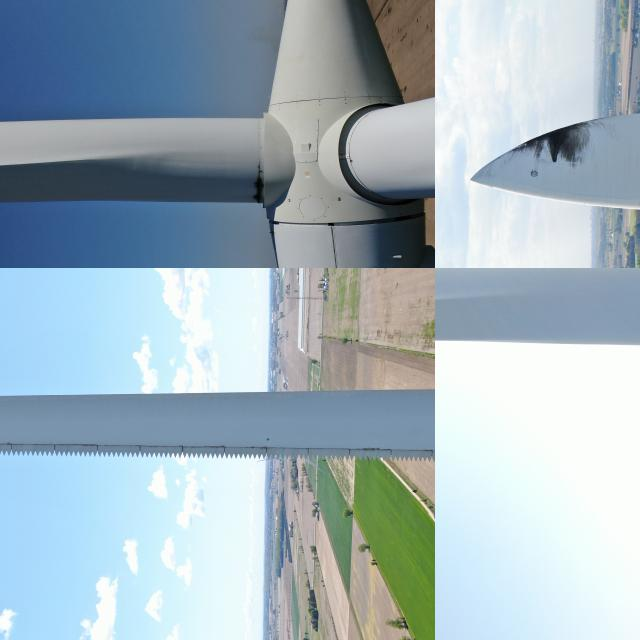damage: (505, 112, 609, 168), (242, 167, 270, 203), (73, 438, 109, 449), (242, 440, 270, 452), (197, 440, 227, 449), (351, 446, 393, 450), (3, 440, 18, 446)
